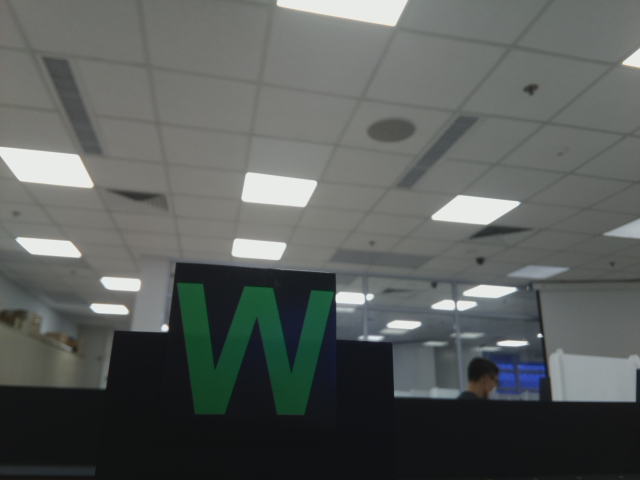w: (175, 276, 337, 421)
